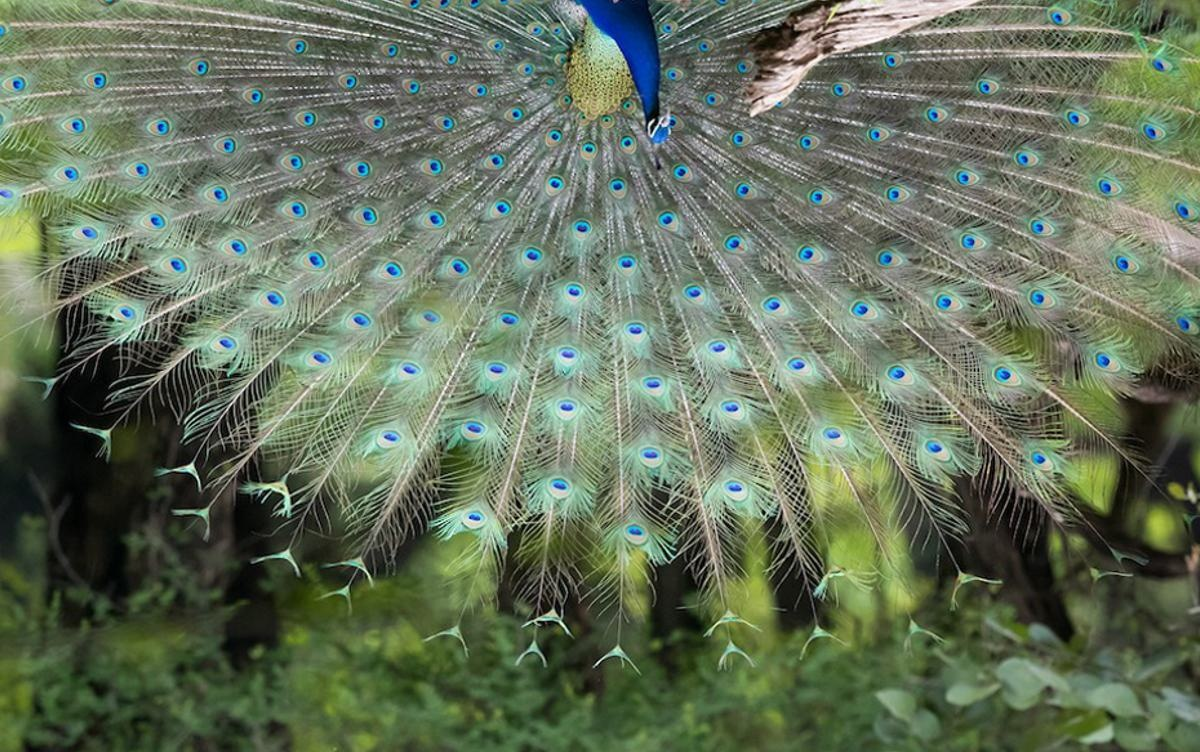peacock: (269, 1, 1200, 402)
